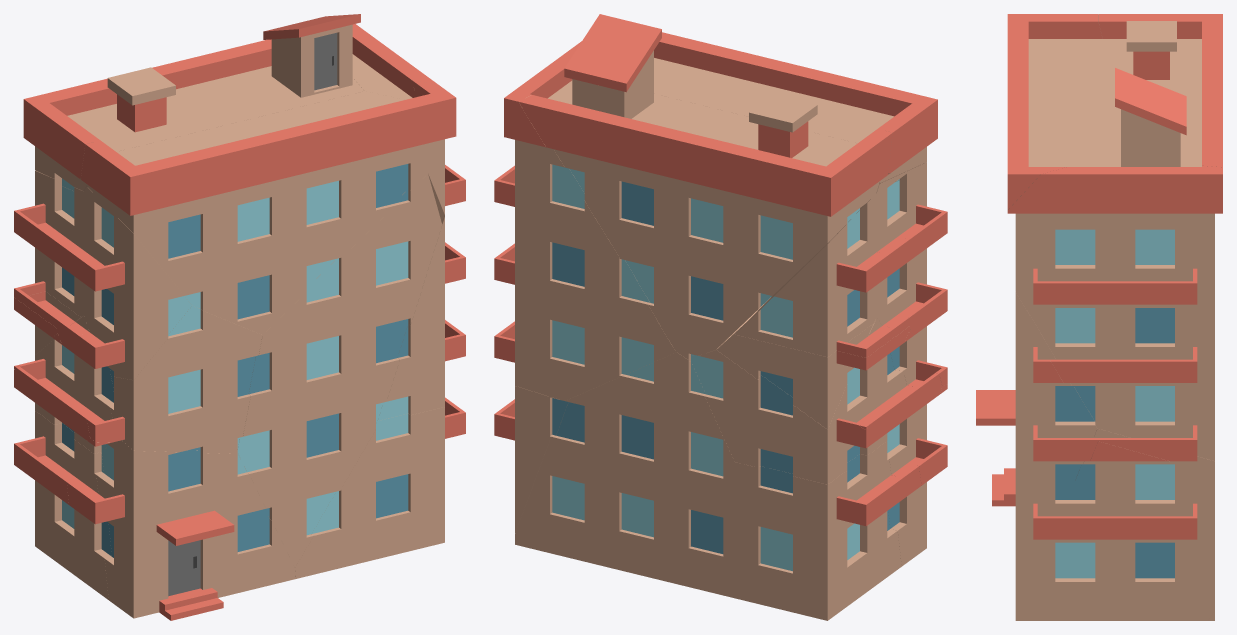
File: House 2.4 Fractured.fbx
The picture shows the model from 3 angles, left to right: view 1: azimuth 30°, elevation 25°; view 2: azimuth 150°, elevation 25°; view 3: azimuth 270°, elevation 25°; orthographic projection.
Visible parts, largest first — view 1: House_Type2_4_Breaking_cell.008, House_Type2_4_Breaking_cell.005, House_Type2_4_Breaking_cell, House_Type2_4_Breaking_cell.001, House_Type2_4_Breaking_cell.004, House_Type2_4_Breaking_cell.003, House_Type2_4_Breaking_cell.013, House_Type2_4_Breaking_cell.007, House_Type2_4_Breaking_cell.014, House_Type2_4_Breaking_cell.006, House_Type2_4_Breaking_cell.009, House_Type2_4_Breaking_cell.002 (+1 smaller); view 2: House_Type2_4_Breaking_cell.001, House_Type2_4_Breaking_cell.010, House_Type2_4_Breaking_cell.002, House_Type2_4_Breaking_cell.007, House_Type2_4_Breaking_cell.009, House_Type2_4_Breaking_cell.008, House_Type2_4_Breaking_cell.006, House_Type2_4_Breaking_cell.013, House_Type2_4_Breaking_cell.011, House_Type2_4_Breaking_cell, House_Type2_4_Breaking_cell.012, House_Type2_4_Breaking_cell.004; view 3: House_Type2_4_Breaking_cell.002, House_Type2_4_Breaking_cell.012, House_Type2_4_Breaking_cell.001, House_Type2_4_Breaking_cell.008, House_Type2_4_Breaking_cell.014, House_Type2_4_Breaking_cell.003, House_Type2_4_Breaking_cell.
Boxes of the visible parts, box(x1,y1,x2,y2) form: House_Type2_4_Breaking_cell.008: box(81, 79, 456, 334); House_Type2_4_Breaking_cell.005: box(237, 174, 442, 567); House_Type2_4_Breaking_cell: box(67, 437, 295, 620); House_Type2_4_Breaking_cell.001: box(23, 14, 364, 191); House_Type2_4_Breaking_cell.004: box(87, 305, 262, 453); House_Type2_4_Breaking_cell.003: box(295, 397, 465, 578); House_Type2_4_Breaking_cell.013: box(57, 179, 191, 380); House_Type2_4_Breaking_cell.007: box(14, 411, 111, 599); House_Type2_4_Breaking_cell.014: box(377, 216, 465, 420); House_Type2_4_Breaking_cell.006: box(14, 171, 83, 328); House_Type2_4_Breaking_cell.009: box(14, 316, 113, 453); House_Type2_4_Breaking_cell.002: box(352, 24, 465, 260); House_Type2_4_Breaking_cell.001: box(519, 14, 892, 359); House_Type2_4_Breaking_cell.010: box(515, 352, 734, 598); House_Type2_4_Breaking_cell.002: box(494, 41, 676, 400); House_Type2_4_Breaking_cell.007: box(734, 441, 921, 620); House_Type2_4_Breaking_cell.009: box(688, 297, 942, 484); House_Type2_4_Breaking_cell.008: box(654, 32, 937, 183); House_Type2_4_Breaking_cell.006: box(735, 193, 909, 357); House_Type2_4_Breaking_cell.013: box(876, 162, 947, 335); House_Type2_4_Breaking_cell.011: box(716, 323, 909, 430); House_Type2_4_Breaking_cell: box(887, 384, 947, 566); House_Type2_4_Breaking_cell.012: box(494, 386, 568, 533); House_Type2_4_Breaking_cell.004: box(890, 326, 947, 386); House_Type2_4_Breaking_cell.002: box(1007, 165, 1222, 461); House_Type2_4_Breaking_cell.012: box(1075, 428, 1214, 620); House_Type2_4_Breaking_cell.001: box(1098, 14, 1222, 167); House_Type2_4_Breaking_cell.008: box(1007, 14, 1102, 209); House_Type2_4_Breaking_cell.014: box(1015, 292, 1097, 483); House_Type2_4_Breaking_cell.003: box(1015, 480, 1075, 620); House_Type2_4_Breaking_cell: box(976, 390, 1015, 506).
Size of the model in its own units: 1000 by 1292 by 572.
